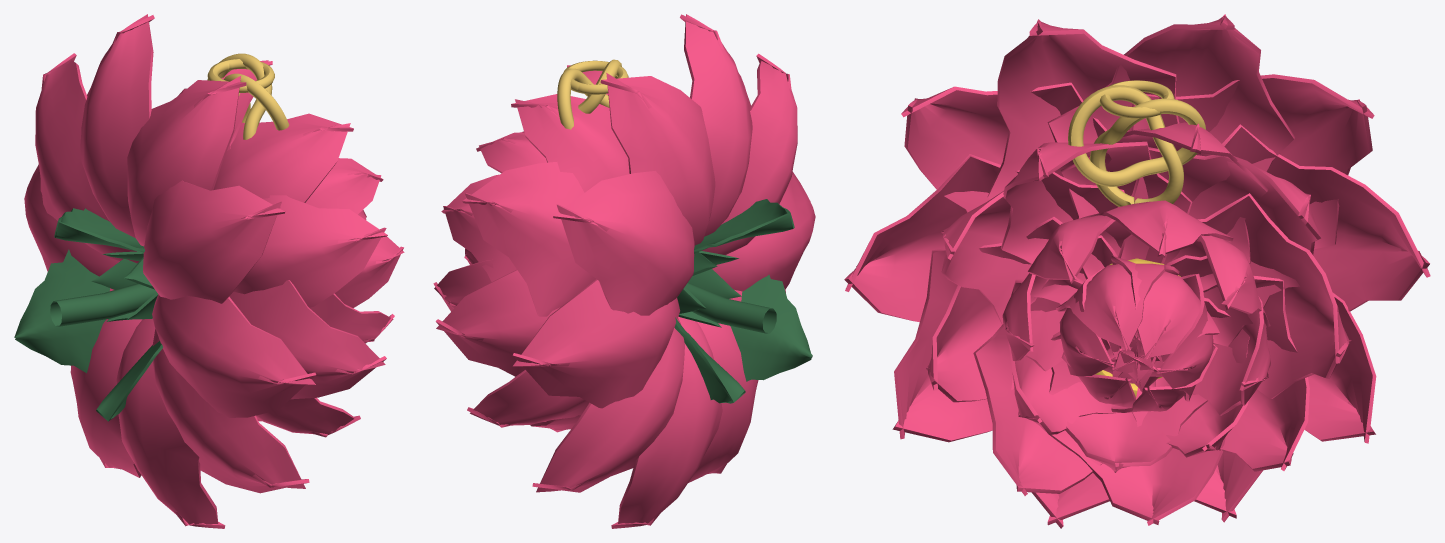
File: LovenseRose.dae
3 views of the same model, side by side, from view 1: azimuth 30°, elevation 25°; view 2: azimuth 150°, elevation 25°; view 3: azimuth 270°, elevation 25° (orthographic). The views are drawn at different scales.
Parts seen in each view (by area): view 1: body, band, metal; view 2: body, band, metal; view 3: body, metal.
Part boxes in pixels (x1,y1,x2,y2): body: (24, 14, 404, 528); band: (14, 208, 162, 421); metal: (207, 53, 289, 139); body: (433, 14, 815, 528); band: (674, 199, 812, 403); metal: (557, 59, 628, 129); body: (844, 14, 1430, 528); metal: (1068, 80, 1205, 206).
Bounding box in the file's own units: 0.1153 × 0.1666 × 0.1601.
